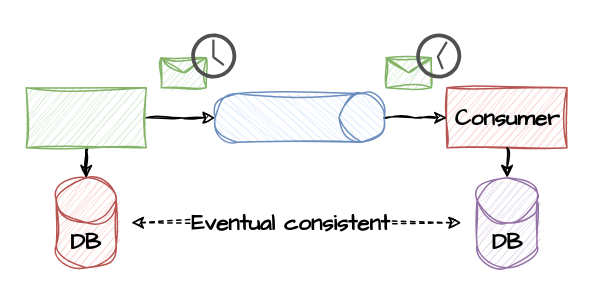
Some shapes in this 594 by 296 pixel diagram are drawn without their labels. Each missing label, with the centre of its shape:
"Backbone" goes at pixel 299 117.
"Producer" goes at pixel 85 117.
